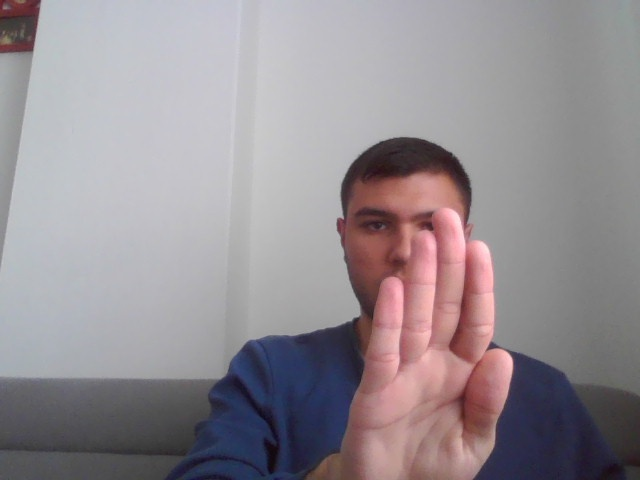Hello: (344, 208, 515, 480)
